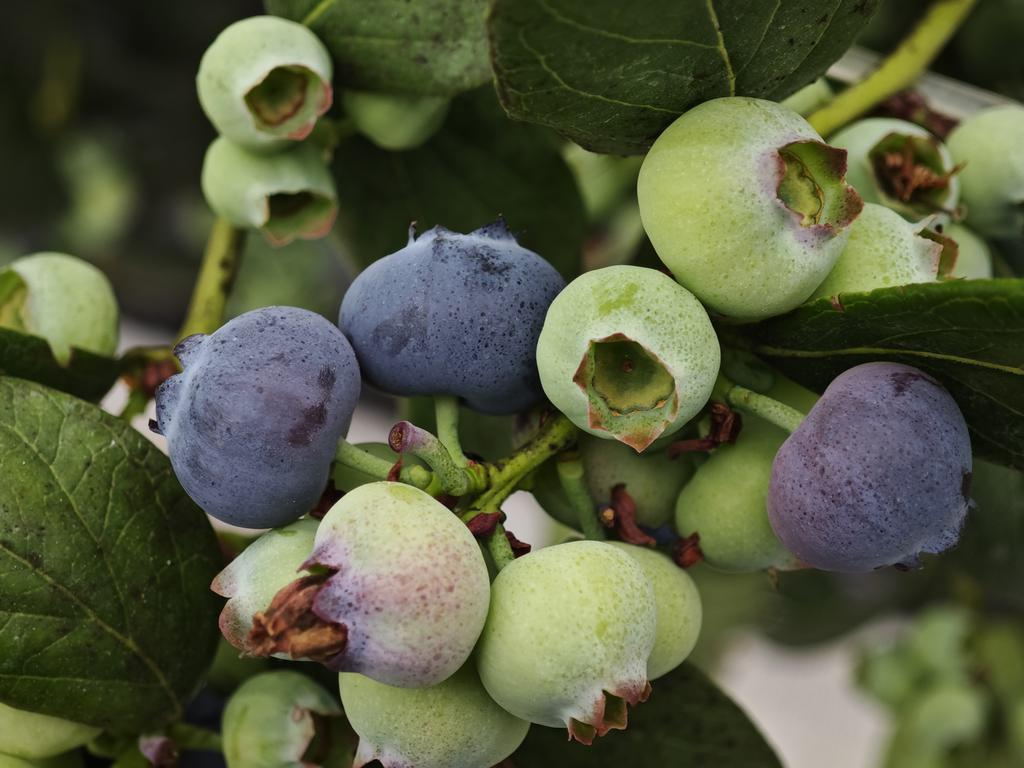RipeBlueBerry: (157, 310, 343, 521), (339, 228, 542, 407)
Semi-RipeBlueBerry: (309, 489, 492, 693)
UnripeBlueBerry: (640, 87, 843, 309), (482, 547, 699, 727), (538, 267, 722, 438)
